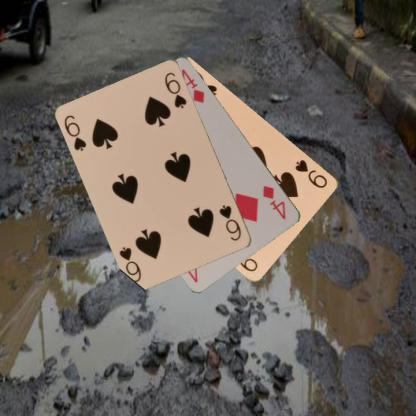4d: (260, 182, 288, 220)
6s: (216, 202, 242, 243), (62, 112, 88, 152)
9s: (292, 157, 330, 190)
